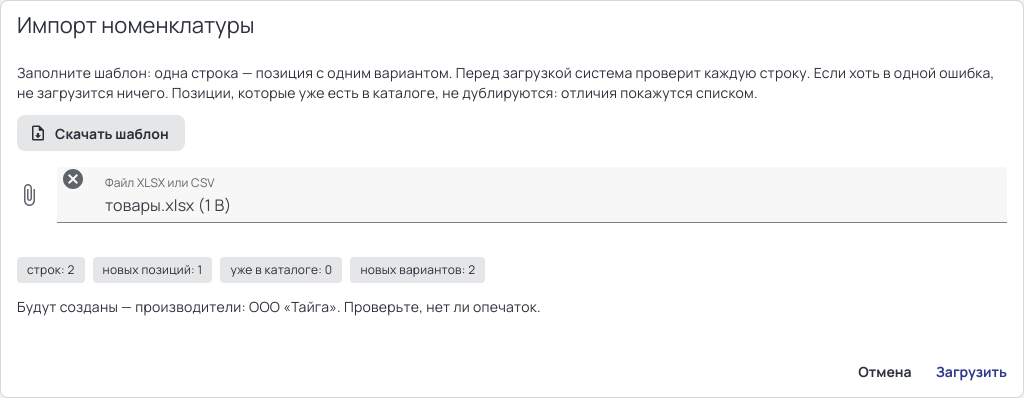
Test: ImportDialog › без ошибок загружает тот же файл и сообщает итог
Click the button with test id "import-run". click: click(971, 371)
box: [928,353,1015,389]
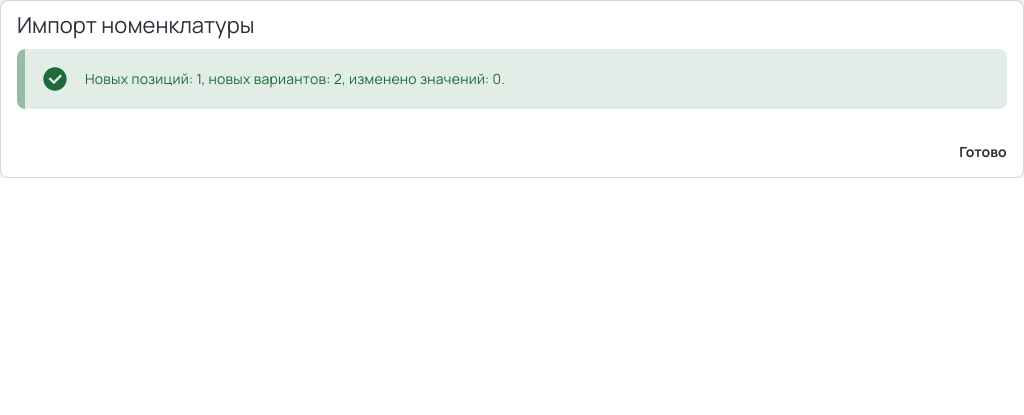
Expected: the element with test id "import-done" shows "Новых позиций: 1", [85,69,505,88]
